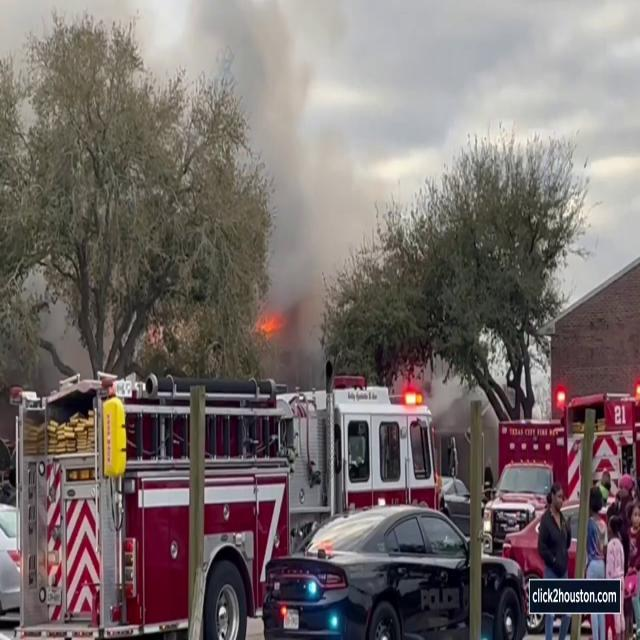Fire: (251, 301, 287, 343)
